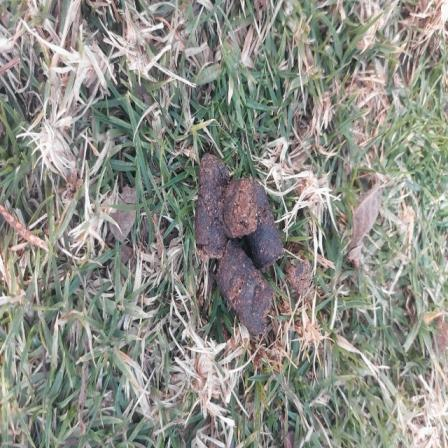dog-poop: (179, 143, 302, 346)
